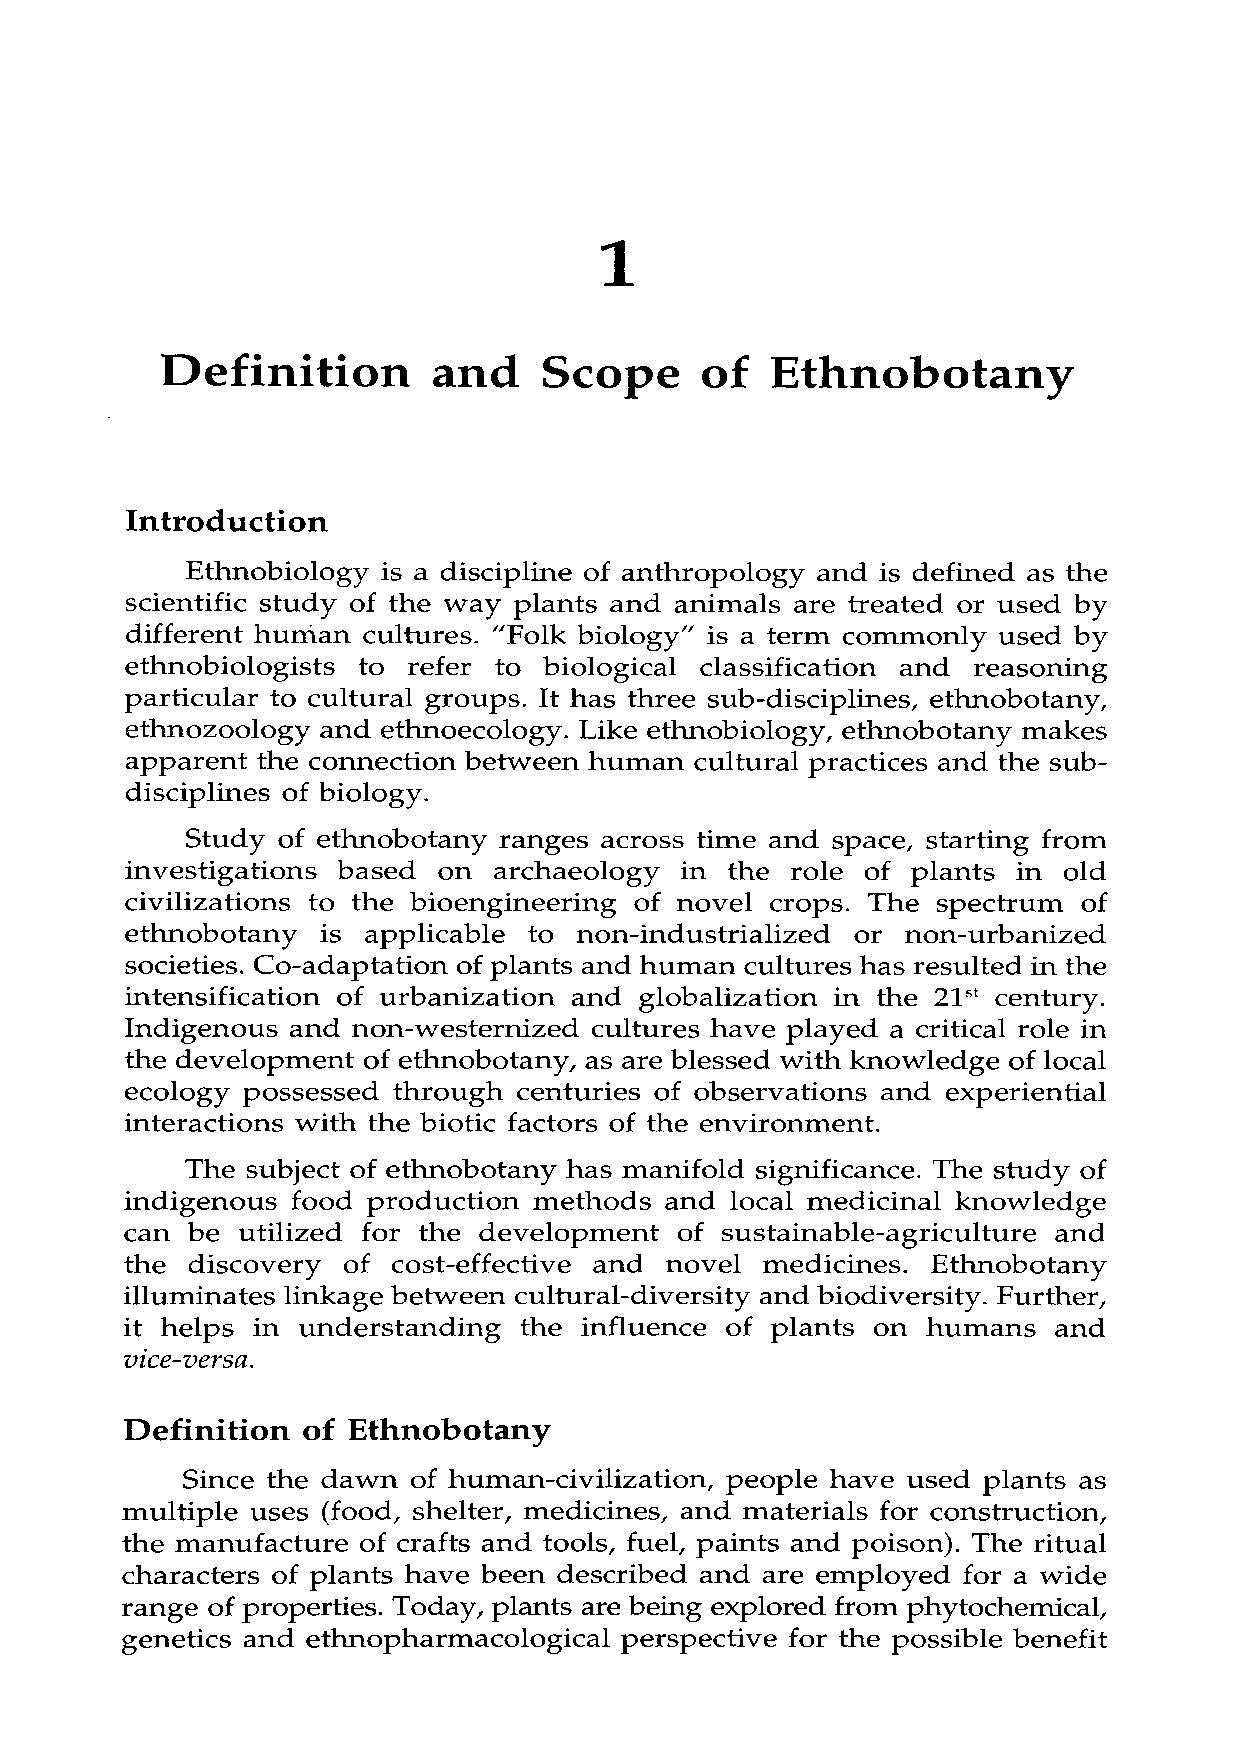chapter: (156, 238, 1074, 403), (117, 1412, 552, 1448), (119, 505, 330, 534)
content: (119, 557, 1111, 1376), (117, 1465, 1111, 1655)
